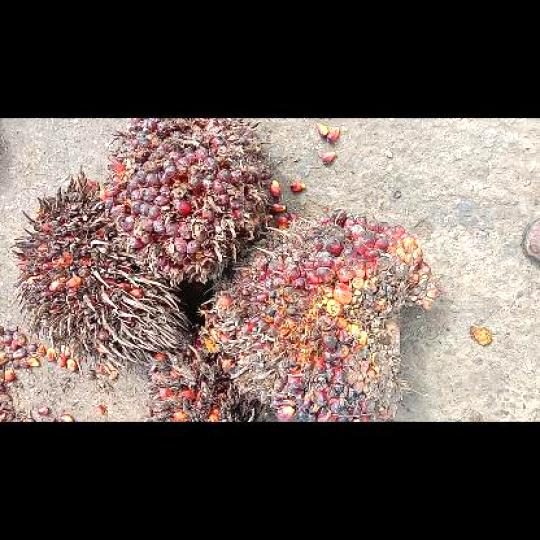masak: (200, 210, 441, 421), (105, 117, 274, 282)
terlalu masak: (10, 166, 192, 374), (145, 338, 265, 420)
